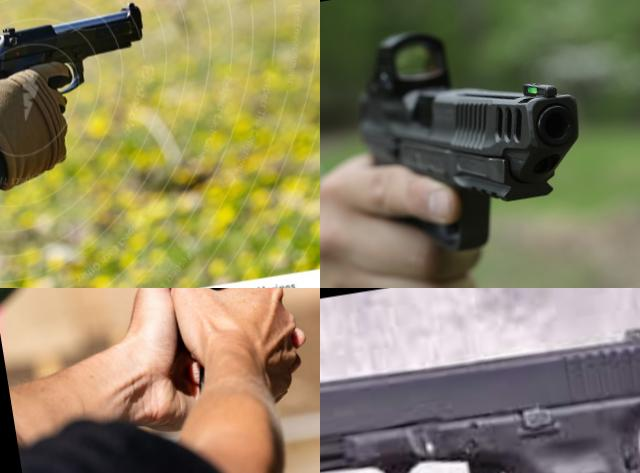handgun: (335, 0, 601, 270), (320, 304, 640, 473), (0, 0, 158, 124), (170, 288, 301, 399)
